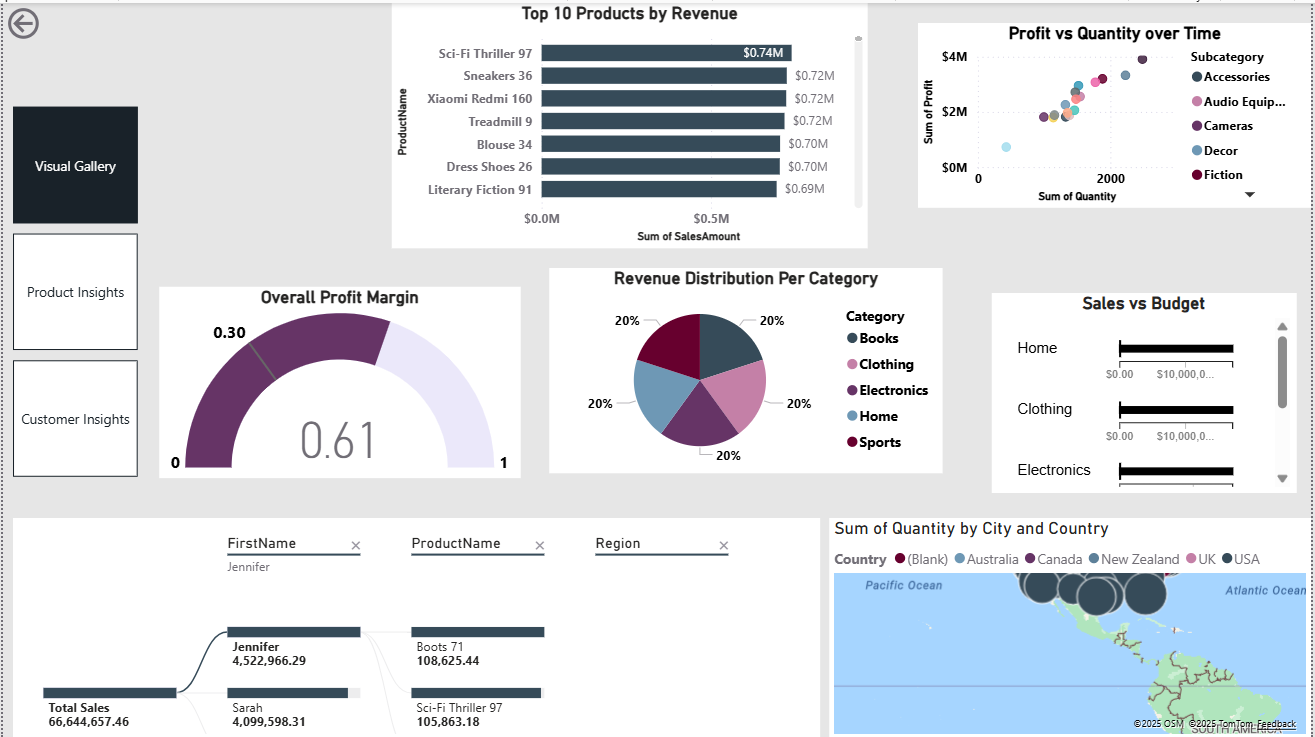

The dashboard page shown, as its layout file describes it:
{"tool":"powerbi","page":{"name":"Visual Gallery","canvas":[1280,720],"ordinal":0},"visuals":[{"type":"clusteredBarChart","title":"Top 10 Products by Revenue","fields":{"Category":["Products.ProductName"],"Y":["Sales.SalesAmount"]},"box":[380.3,0,465.9,239.7],"z":0},{"type":"pieChart","title":"Revenue Distribution Per Category","fields":{"Category":["Products.Category Hierarchy.Category"],"Y":["Sales Trend.Total Sales"]},"box":[534.4,259.2,385.2,200.5],"z":2000},{"type":"azureMap","fields":{"Category":["Geography.City"],"Series":["Geography.Country"],"Size":["Sales.Quantity"]},"box":[808.3,503.6,471.4,216.7],"z":3000},{"type":"scatterChart","title":"Profit vs Quantity over Time","fields":{"X":["Sales.Quantity"],"Series":["Products.Subcategory"],"Y":["Sales.Profit"]},"box":[895.1,19.6,385.2,181],"z":4000},{"type":"actionButton","box":[0,0,100,40],"z":5000},{"type":"gauge","title":"Overall Profit Margin","fields":{"Y":["Customers.Profit Margin"],"TargetValue":["Customers.Target Profit Margin"],"MinValue":["Customers.min value"],"MaxValue":["Customers.max value"]},"box":[152.9,277.6,353.4,187.1],"z":6000},{"type":"decompositionTreeVisual","fields":{"Analyze":["Customers.Total Sales"],"ExplainBy":["Customers.FirstName","Products.Category Hierarchy.ProductName","Geography.Region"]},"box":[9.8,503.8,789.9,216.4],"z":7000},{"type":"BulletChart1443347686880","title":"Sales vs Budget","fields":{"Value":["Sales.SalesAmount"],"TargetValue":["Customers.Budget"],"Category":["Products.Category"]},"box":[967.5,283.8,297.5,195],"z":8000},{"type":"pageNavigator","box":[9.8,101.5,122.3,363.2],"z":8001}]}

Visuals, with their boxes on the page's 1280x720 design canvas (x1, y1, x2, y2). These are canvas units, not pixel positions in the 1315x737 screenshot, which may show the page scaled, cropped or inside an application window:
"Top 10 Products by Revenue" clusteredBarChart: [380,0,846,240]
"Revenue Distribution Per Category" pieChart: [534,259,920,460]
azureMap - Geography.City x Geography.Country: [808,504,1280,720]
"Profit vs Quantity over Time" scatterChart: [895,20,1280,201]
actionButton: [0,0,100,40]
"Overall Profit Margin" gauge: [153,278,506,465]
decompositionTreeVisual - Customers.Total Sales x Customers.FirstName: [10,504,800,720]
"Sales vs Budget" BulletChart1443347686880: [968,284,1265,479]
pageNavigator: [10,102,132,465]
